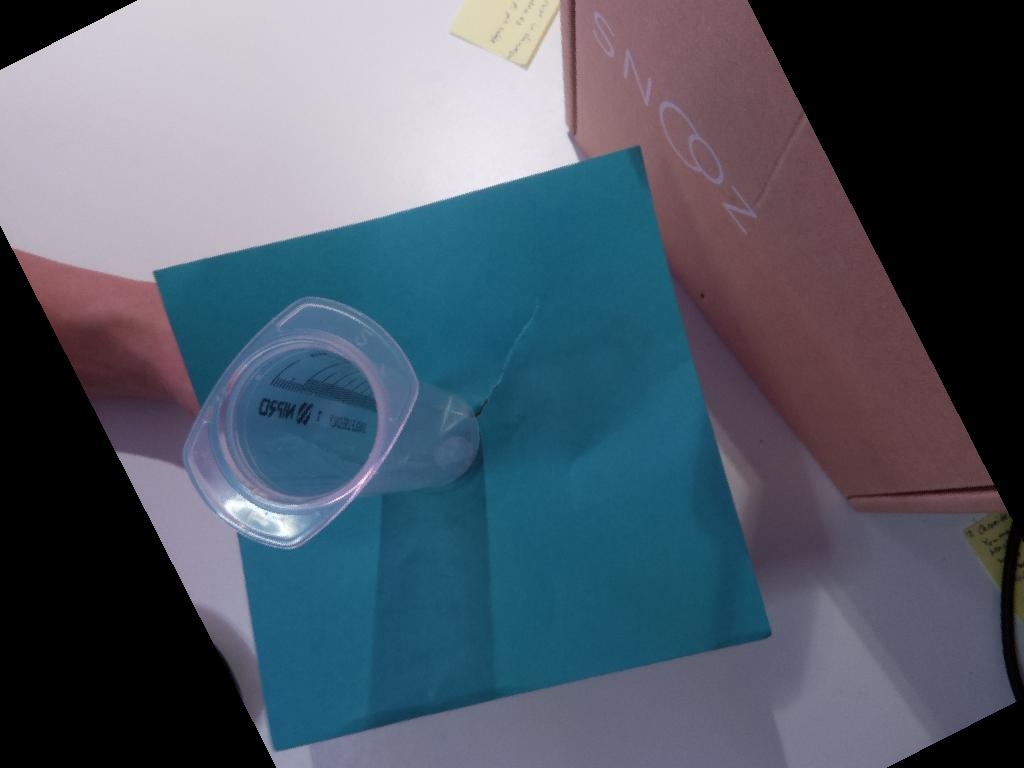clean: (181, 292, 418, 550)
